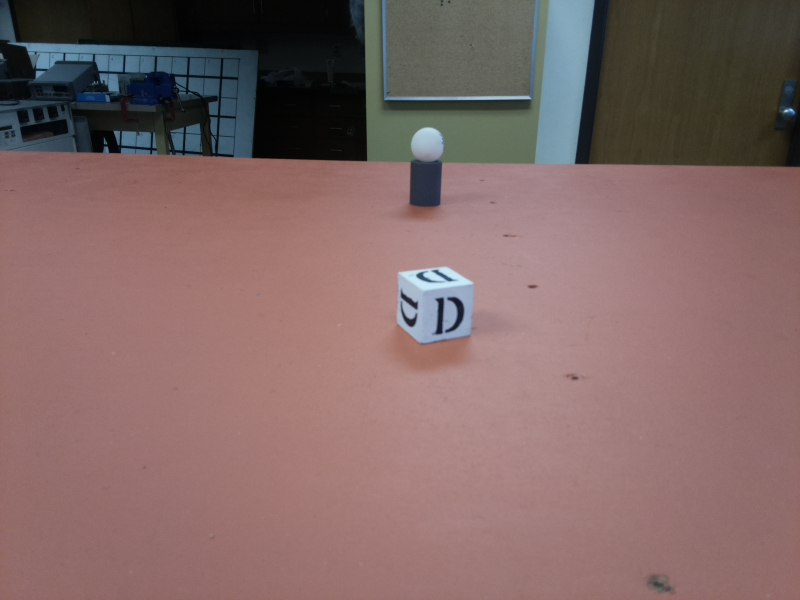blockD: (398, 266, 474, 340)
obstacle: (409, 127, 443, 207)
